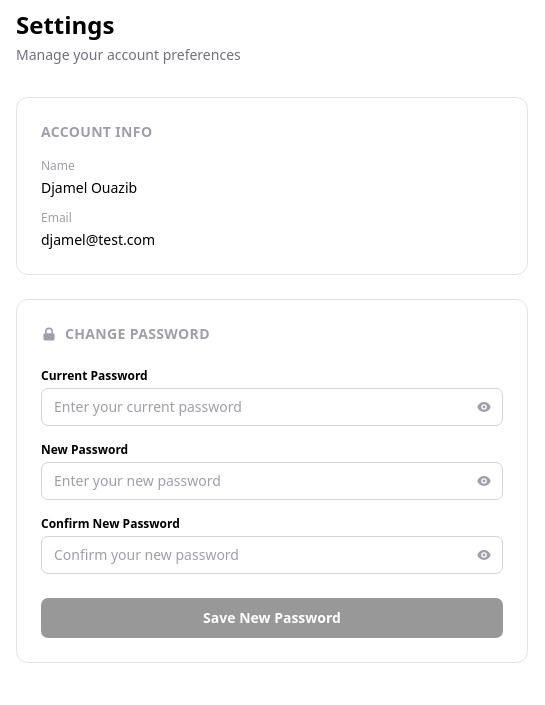
Test case: SettingsClient › should show error when passwords do not match
Type "oldpassword" into the password field with placeholder "Enter your current password".
click(272, 407); type("oldpassword")  # box 41,388 -> 503,426
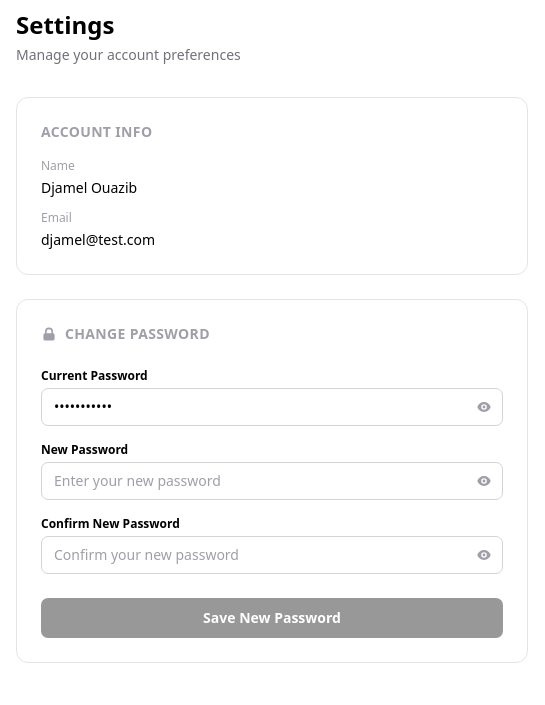
Type "newpassword123" into the password field with placeholder "Enter your new password".
click(272, 481); type("newpassword123")  # box 41,462 -> 503,500
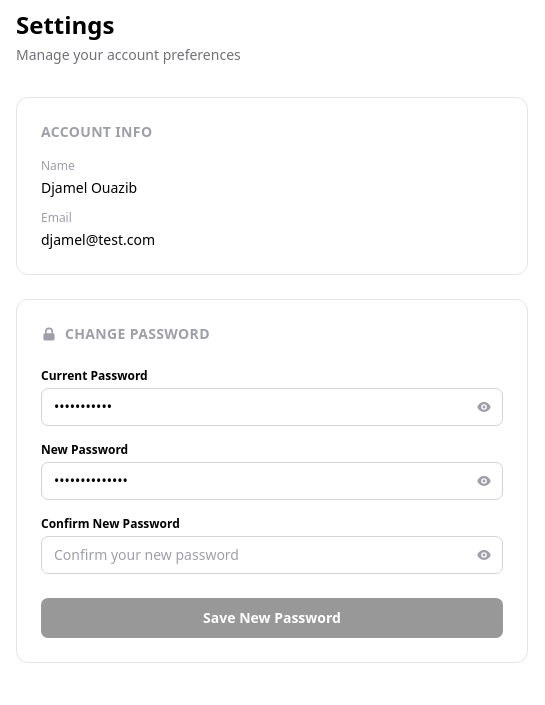
Type "differentpassword" into the password field with placeholder "Confirm your new password".
click(272, 555); type("differentpassword")  # box 41,536 -> 503,574
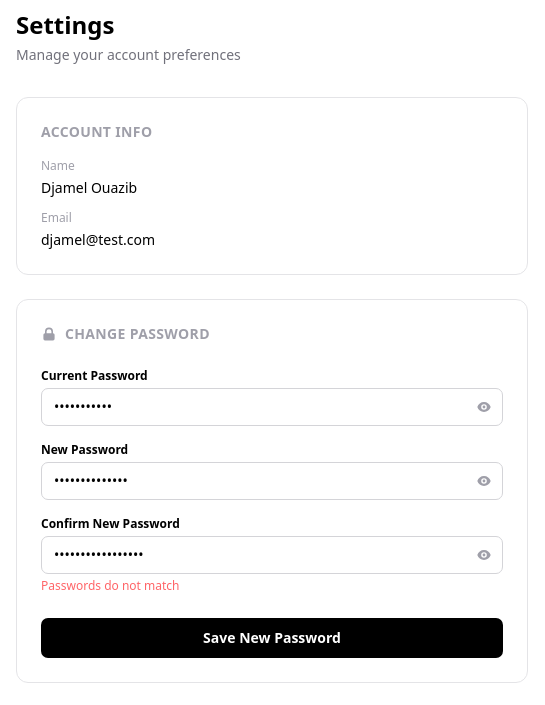
Click the button "Save New Password".
click(272, 638)  # box 41,618 -> 503,658
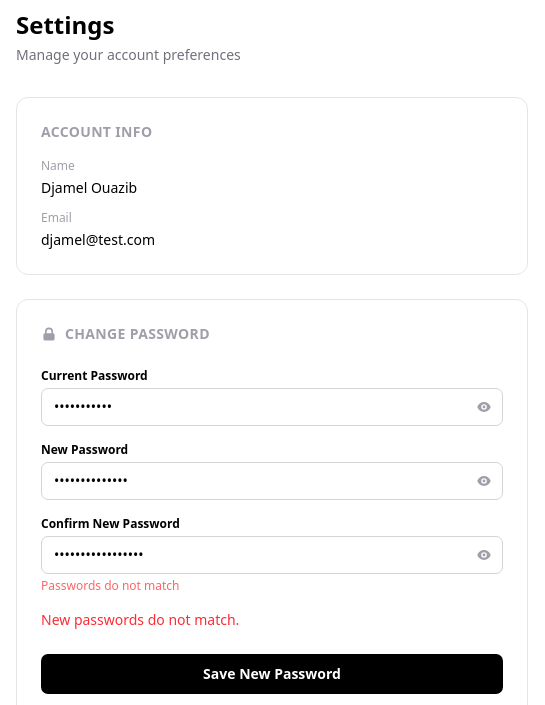
Now the text "New passwords do not match." is shown, box 41,610 -> 239,629
